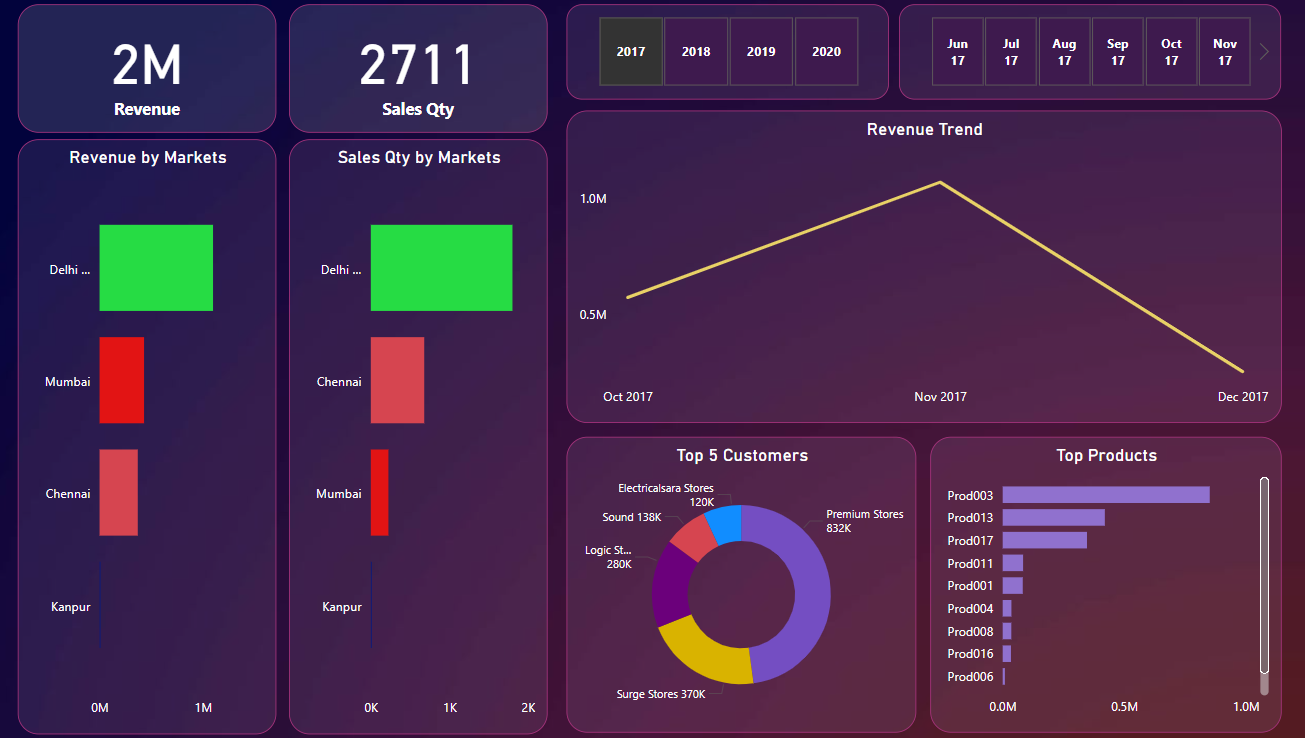

Layout of this report page (visuals, bound fields, positions):
{"tool":"powerbi","page":{"name":"Page 1","canvas":[1280,720],"ordinal":0},"visuals":[{"type":"card","fields":{"Values":["BaseMeasures.Revenue"]},"box":[27.7,10.9,249.7,124.3],"z":0},{"type":"card","fields":{"Values":["BaseMeasures.Sales Qty"]},"box":[289.5,10.9,249.7,124.3],"z":1000},{"type":"barChart","title":"Revenue by Markets","fields":{"Y":["BaseMeasures.Revenue"],"Category":["markets.markets_name"]},"box":[27.7,141.2,249.7,574.3],"z":2000},{"type":"barChart","title":"Sales Qty by Markets","fields":{"Y":["BaseMeasures.Sales Qty"],"Category":["markets.markets_name"]},"box":[289.5,141.2,249.7,574.3],"z":3000},{"type":"donutChart","title":"Top 5 Customers","fields":{"Category":["customers.customer_name"],"Y":["BaseMeasures.Revenue"]},"box":[557.4,428.3,337.8,285.9],"z":4000},{"type":"barChart","title":"Top Products","fields":{"Y":["BaseMeasures.Revenue"],"Category":["products.product_code"]},"box":[908.4,428.3,339,285.9],"z":5000},{"type":"lineChart","title":"Revenue Trend","fields":{"Y":["BaseMeasures.Revenue"],"Category":["date.cy_date"]},"box":[557.4,113.4,690.1,301.6],"z":6000},{"type":"slicer","fields":{"Values":["date.cy_date"]},"box":[878.3,10.9,369.2,91.7],"z":7000},{"type":"slicer","fields":{"Values":["date.year"]},"box":[557.4,10.9,311.3,91.7],"z":8000}]}

Visuals, with their boxes in screenshot pixels (x1, y1, x2, y2), scaled from the page's 1280x720 canvas onto the 1305x738 screenshot:
card - BaseMeasures.Revenue: [28, 11, 283, 139]
card - BaseMeasures.Sales Qty: [295, 11, 550, 139]
"Revenue by Markets" barChart: [28, 145, 283, 733]
"Sales Qty by Markets" barChart: [295, 145, 550, 733]
"Top 5 Customers" donutChart: [568, 439, 913, 732]
"Top Products" barChart: [926, 439, 1272, 732]
"Revenue Trend" lineChart: [568, 116, 1272, 425]
slicer - date.cy_date: [895, 11, 1272, 105]
slicer - date.year: [568, 11, 886, 105]
